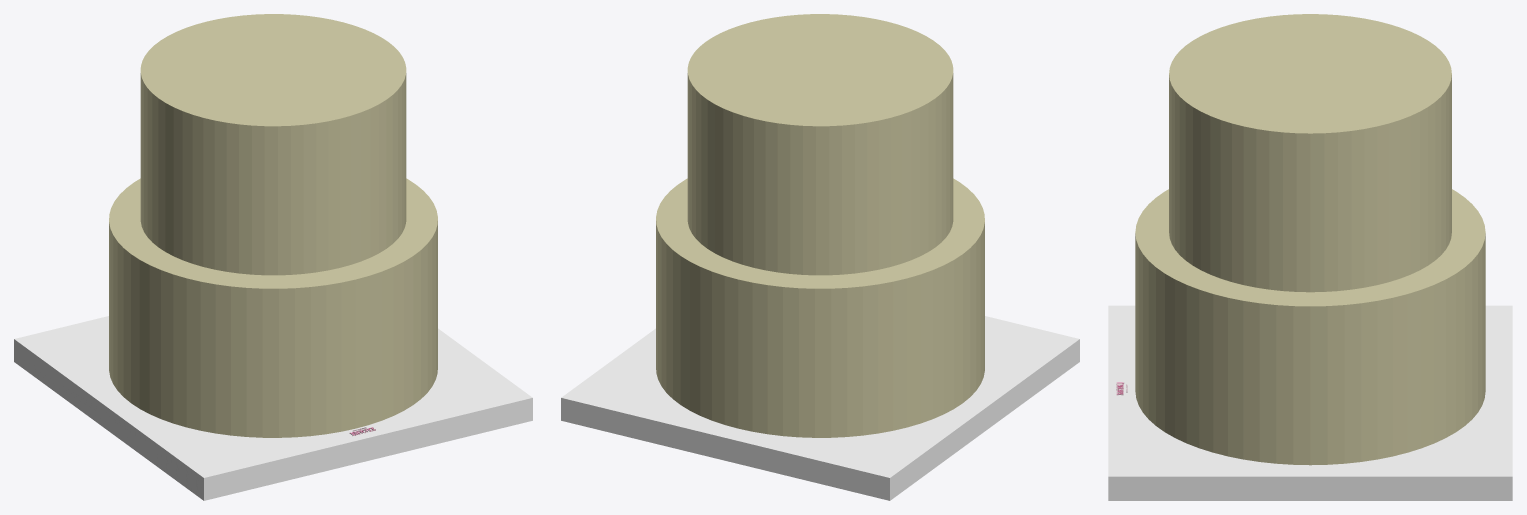
Rendered from cake_tier2_10-8_layers3_v35.glb.
3 views of the same model, side by side, from view 1: azimuth 30°, elevation 25°; view 2: azimuth 150°, elevation 25°; view 3: azimuth 270°, elevation 25° (orthographic). The views are drawn at different scales.
Parts seen in each view (by area): view 1: Tier2_8in, Tier1_10in, Board; view 2: Tier2_8in, Tier1_10in, Board; view 3: Tier2_8in, Tier1_10in, Board.
Boxes of the visible parts, x1,y1,x2,y2 form: Tier2_8in: (140, 14, 406, 275); Tier1_10in: (109, 178, 437, 437); Board: (14, 316, 532, 500); Tier2_8in: (687, 14, 953, 275); Tier1_10in: (656, 178, 984, 437); Board: (561, 316, 1079, 500); Tier2_8in: (1169, 14, 1451, 292); Tier1_10in: (1135, 189, 1485, 465); Board: (1108, 305, 1512, 500).
Bounding box in the file's own units: 0.3 × 0.28 × 0.3.
